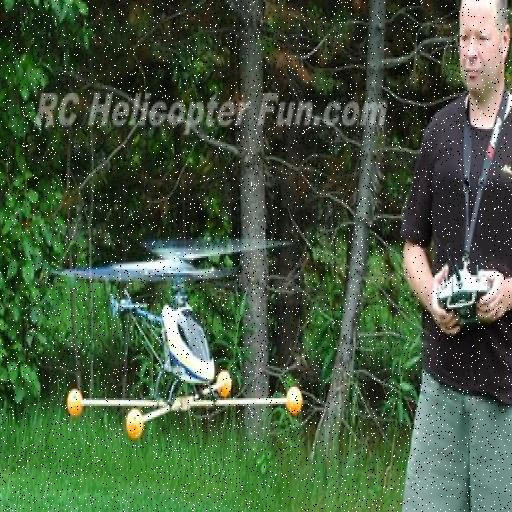helicopter: (68, 242, 309, 435)
